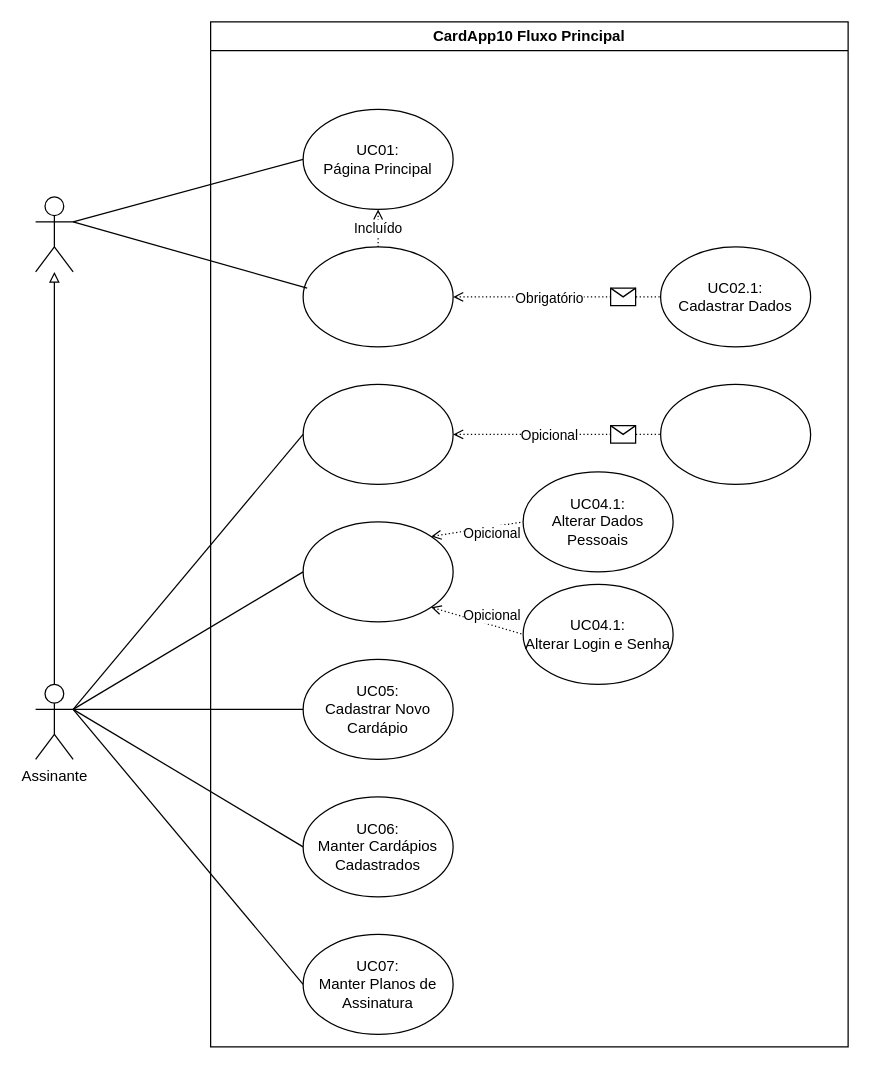
Image size: 870x1069. Some labels were removed from this diagram. Here are the shapes that lost their labels. From the top down, the box of each, then its label:
(34, 196, 73, 272): Visitante
(302, 246, 453, 347): UC02: Assinar Plano
(302, 383, 453, 484): UC03: Entrar na Área do Assinante
(659, 383, 811, 484): UC03.1: Recuperar Senha "Esqueceu Senha"
(302, 521, 453, 622): UC04: Manter Dados de Cadastro
